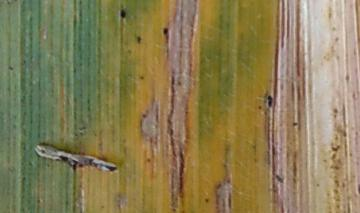tarspot: (97, 161, 118, 174), (273, 172, 284, 185), (70, 156, 78, 173), (58, 154, 69, 165), (266, 93, 273, 109), (119, 6, 127, 20), (290, 120, 299, 128), (135, 35, 142, 45), (202, 196, 210, 204), (162, 27, 169, 36), (176, 79, 182, 89), (145, 156, 152, 164), (137, 74, 146, 80), (141, 111, 147, 120)
